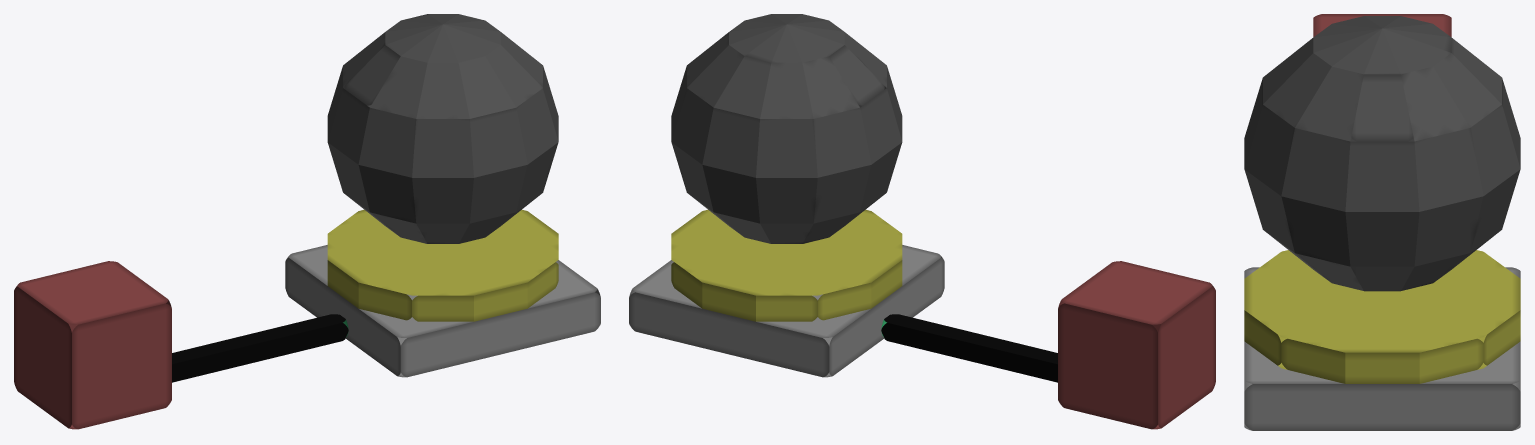
The model's file is teleporter_inactive.fbx.
3 views of the same model, side by side, from view 1: azimuth 30°, elevation 25°; view 2: azimuth 150°, elevation 25°; view 3: azimuth 270°, elevation 25° (orthographic). The views are drawn at different scales.
Visible parts, largest first — view 1: sphere, mesh_2, cylinder, mesh, mesh_1; view 2: sphere, mesh_2, cylinder, mesh, mesh_1; view 3: sphere, cylinder, mesh, mesh_2.
Part boxes in pixels (bbox=[...]): sphere: bbox=[327, 14, 558, 243]; mesh_2: bbox=[14, 261, 171, 429]; cylinder: bbox=[327, 209, 558, 321]; mesh: bbox=[285, 245, 600, 377]; mesh_1: bbox=[172, 314, 348, 382]; sphere: bbox=[671, 14, 902, 243]; mesh_2: bbox=[1058, 261, 1215, 429]; cylinder: bbox=[671, 209, 902, 321]; mesh: bbox=[629, 245, 944, 377]; mesh_1: bbox=[881, 314, 1057, 382]; sphere: bbox=[1244, 16, 1520, 291]; cylinder: bbox=[1244, 250, 1520, 383]; mesh: bbox=[1244, 267, 1520, 430]; mesh_2: bbox=[1313, 14, 1451, 36].
Bounding box in the file's own units: 250 × 138 × 100.
1 material, 1 textured.
